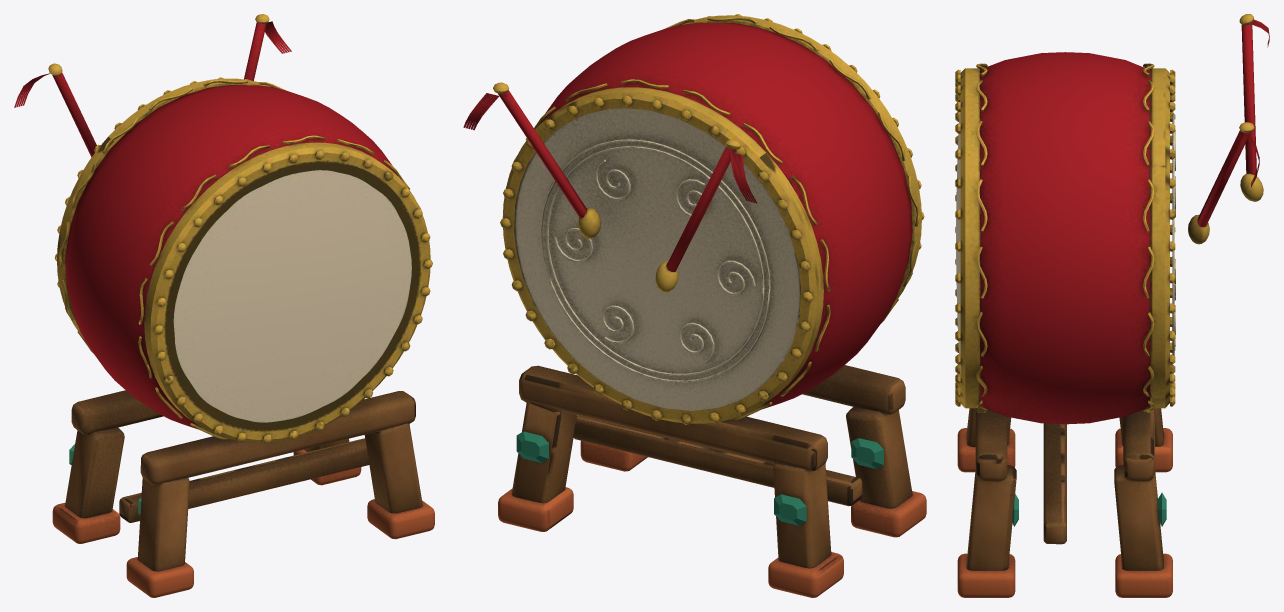
The picture shows the model from 3 angles, left to right: view 1: azimuth 30°, elevation 25°; view 2: azimuth 150°, elevation 25°; view 3: azimuth 270°, elevation 25°; orthographic projection. The views are drawn at different scales.
Parts seen in each view (by area): view 1: Warm_stretched_hide, Imperial_red_lacquer, Patinated_bronze_stand, Engraved_polished_gold, Fired_terracotta_accents; view 2: anim_Warm_stretched_hide_0, Imperial_red_lacquer, Patinated_bronze_stand, Engraved_polished_gold, Fired_terracotta_accents, Warm_stretched_hide, glow_Carved_jade_inlay; view 3: Imperial_red_lacquer, Engraved_polished_gold, Patinated_bronze_stand, Fired_terracotta_accents, Warm_stretched_hide, glow_Carved_jade_inlay.
Part boxes in pixels (x1,y1,x2,y2): Warm_stretched_hide: [173, 170, 411, 422]; Imperial_red_lacquer: [14, 21, 396, 429]; Patinated_bronze_stand: [65, 390, 422, 571]; Engraved_polished_gold: [48, 14, 432, 443]; Fired_terracotta_accents: [52, 449, 434, 597]; anim_Warm_stretched_hide_0: [514, 108, 800, 410]; Imperial_red_lacquer: [463, 22, 912, 408]; Patinated_bronze_stand: [511, 365, 912, 568]; Engraved_polished_gold: [493, 14, 924, 424]; Fired_terracotta_accents: [498, 440, 926, 597]; Warm_stretched_hide: [540, 139, 771, 382]; glow_Carved_jade_inlay: [516, 431, 883, 525]; Imperial_red_lacquer: [980, 19, 1269, 424]; Engraved_polished_gold: [955, 14, 1263, 412]; Patinated_bronze_stand: [967, 408, 1163, 570]; Fired_terracotta_accents: [957, 428, 1172, 597]; Warm_stretched_hide: [956, 98, 1175, 373]; glow_Carved_jade_inlay: [1012, 492, 1166, 526].
Bounding box in the file's own units: 1.9 × 2.53 × 1.58.
6 materials, 5 textured.
